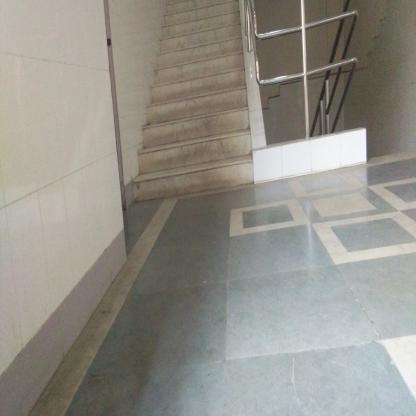stairs: (158, 39, 237, 202)
